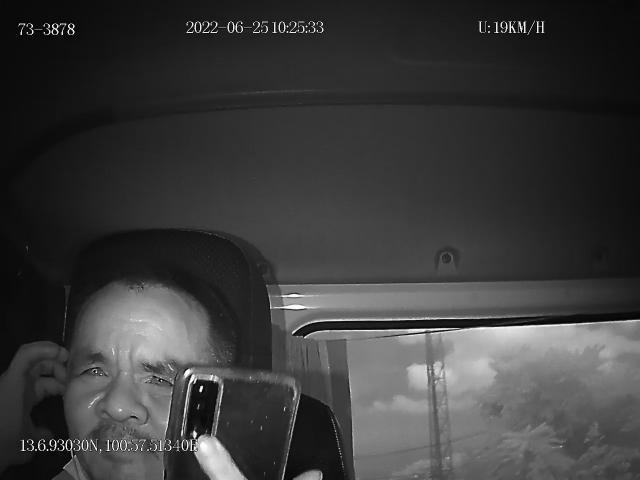PhoneUse: (162, 364, 302, 480)
SafeDriving: (72, 352, 114, 387), (136, 362, 178, 394)
